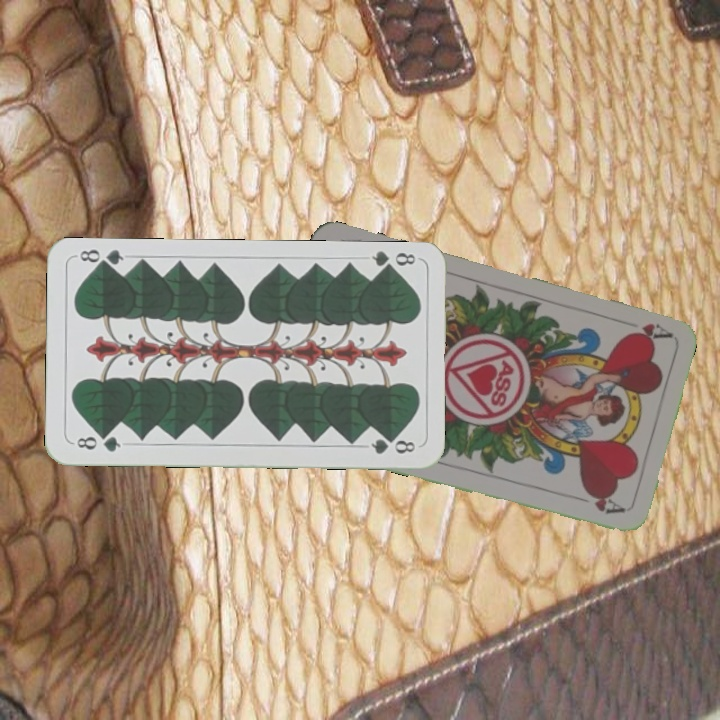G8: (368, 248, 418, 275), (69, 431, 123, 455)
HA: (628, 319, 673, 342)
